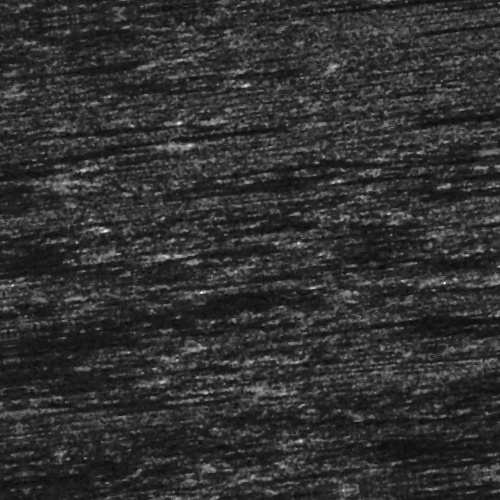object: (129, 240, 212, 249), (91, 363, 184, 370), (215, 378, 256, 393), (443, 332, 500, 341), (144, 131, 185, 136), (30, 156, 71, 161), (301, 126, 332, 131), (83, 141, 94, 150)
shadow: (217, 332, 480, 341), (93, 378, 235, 393), (0, 240, 171, 249), (374, 340, 500, 351), (0, 363, 137, 370), (0, 131, 165, 136), (385, 178, 500, 185), (0, 141, 88, 150), (343, 18, 500, 23), (349, 457, 500, 462), (421, 26, 500, 35), (190, 126, 316, 131), (466, 133, 500, 150), (451, 196, 500, 205), (430, 3, 500, 8), (453, 48, 500, 55), (0, 156, 51, 161)
